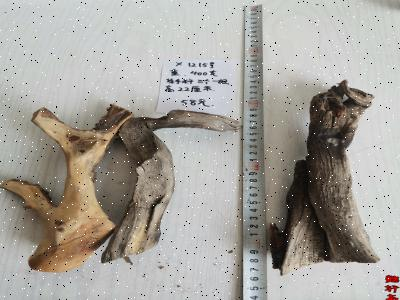Root: (0, 104, 168, 272), (269, 80, 379, 275), (102, 110, 238, 263)
